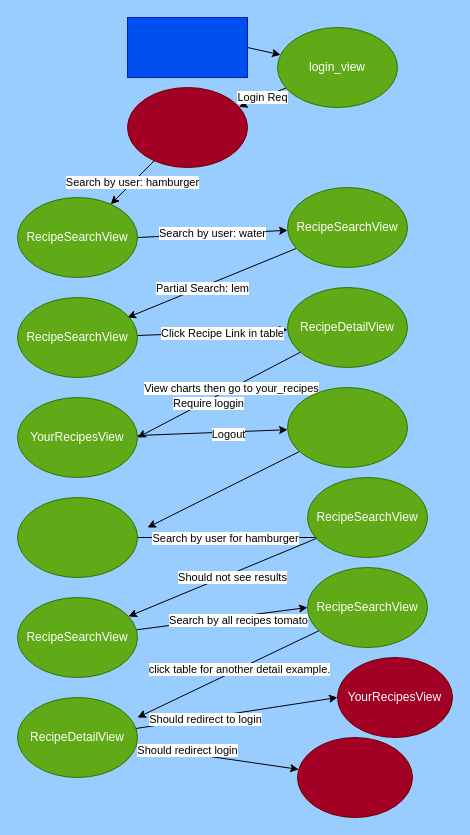
Image size: 470x835. Some labels were removed from this diagram. The box of each missing label's shape, as (x1, y1, x2, y2) in pixels:
logout_view: (286, 386, 408, 468)
RecipeHome(view) (welcome/landing): (126, 16, 248, 78)
success(view): (16, 496, 138, 578)
Your Recipes View: (126, 86, 248, 168)
your_profile(view): (296, 736, 412, 818)
